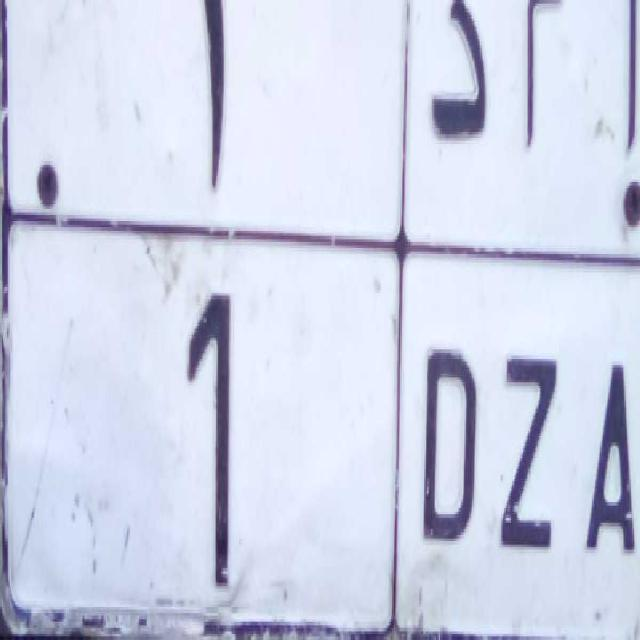license_plate: (0, 199, 640, 640)
